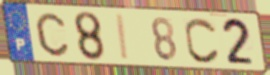2: (221, 15, 260, 70)
8: (73, 10, 107, 62), (150, 16, 178, 63)
C: (183, 16, 222, 66), (34, 11, 71, 59)
I: (116, 13, 131, 63)
